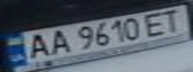0: (121, 15, 145, 40)
1: (109, 17, 127, 44)
6: (93, 20, 115, 47)
9: (72, 22, 96, 51)
A: (21, 32, 54, 61), (42, 27, 75, 56)
E: (139, 10, 172, 38)
T: (157, 7, 190, 34)
